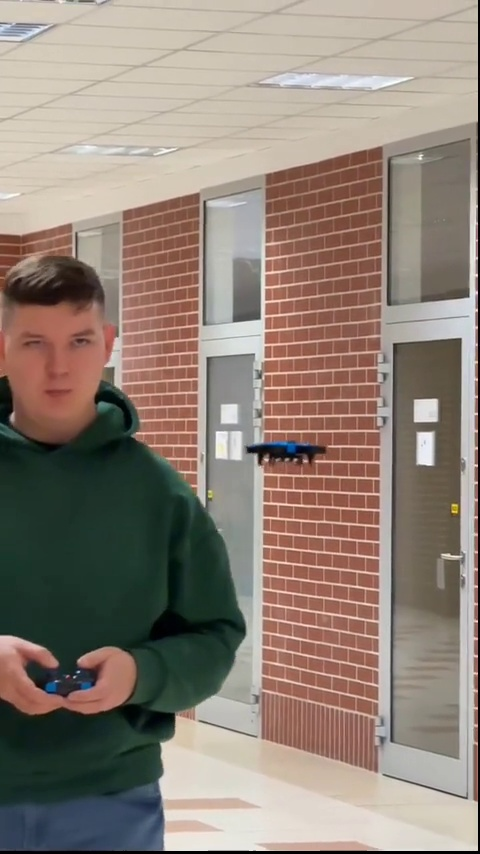drone: (248, 440, 330, 473)
no vest: (0, 254, 244, 842)
